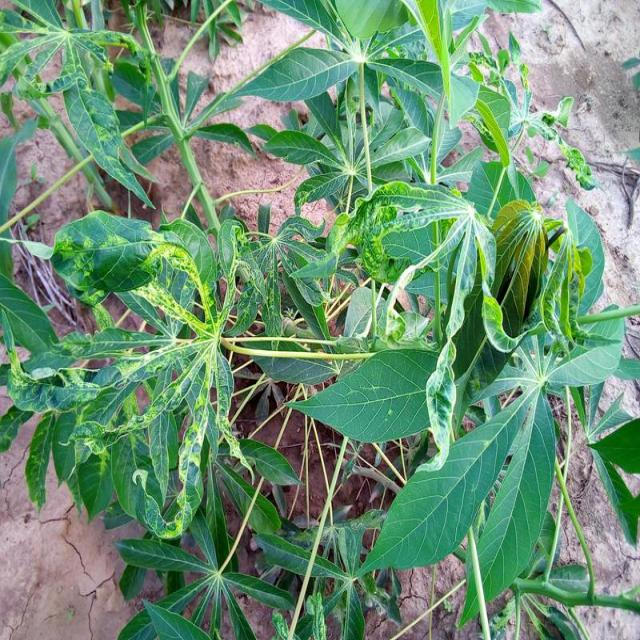cassava leaf: (1, 1, 637, 637), (354, 404, 524, 576), (285, 346, 444, 442)
